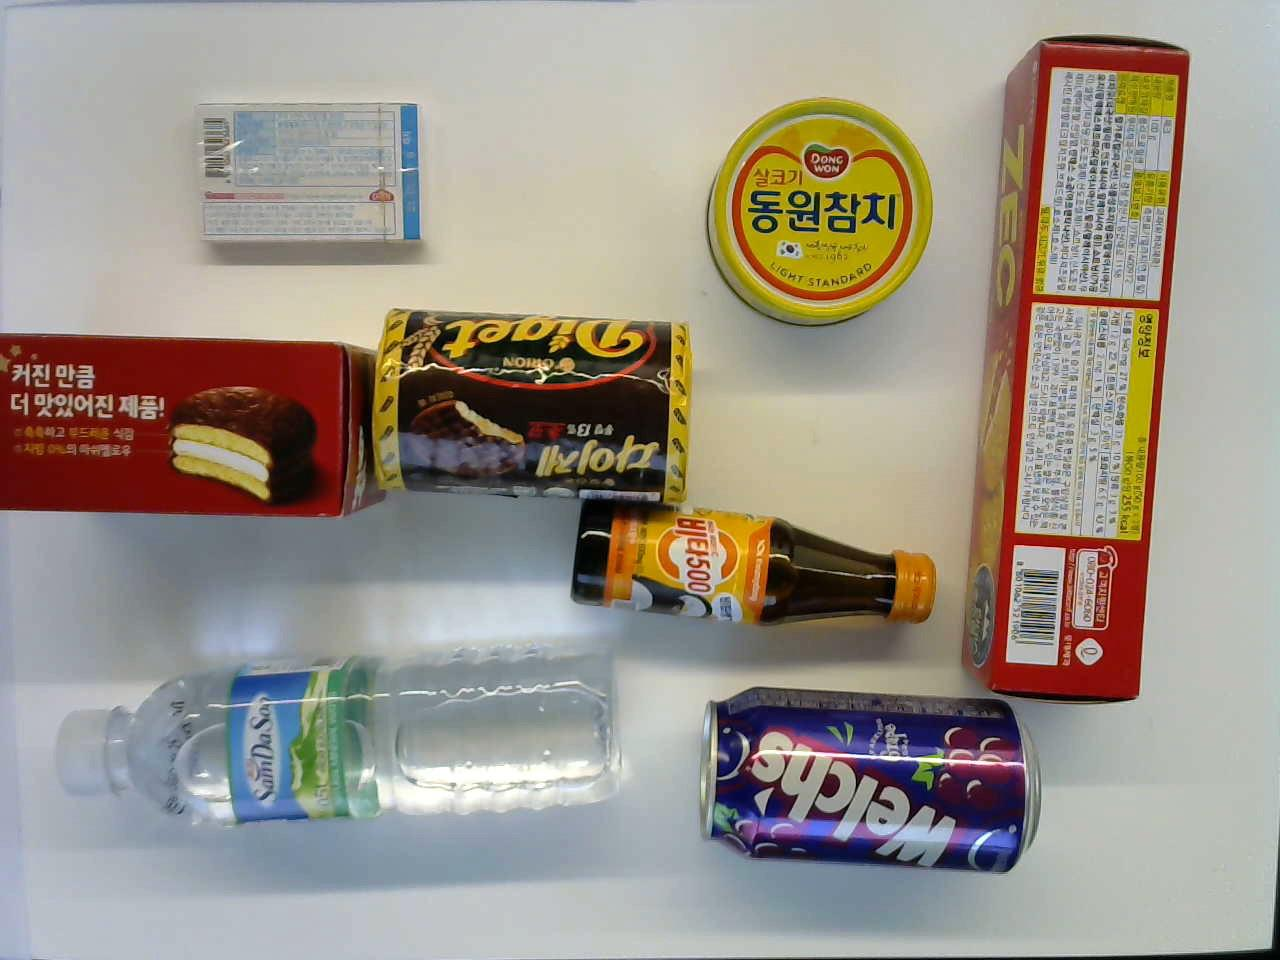ID_gum: (188, 94, 430, 251)
chocopie: (0, 325, 383, 522)
diget_choco: (375, 304, 695, 517)
samdasu: (51, 641, 630, 830)
tuna: (701, 91, 935, 327)
vita500: (565, 496, 944, 636)
welchs: (692, 682, 1047, 879)
zec: (953, 27, 1196, 704)
